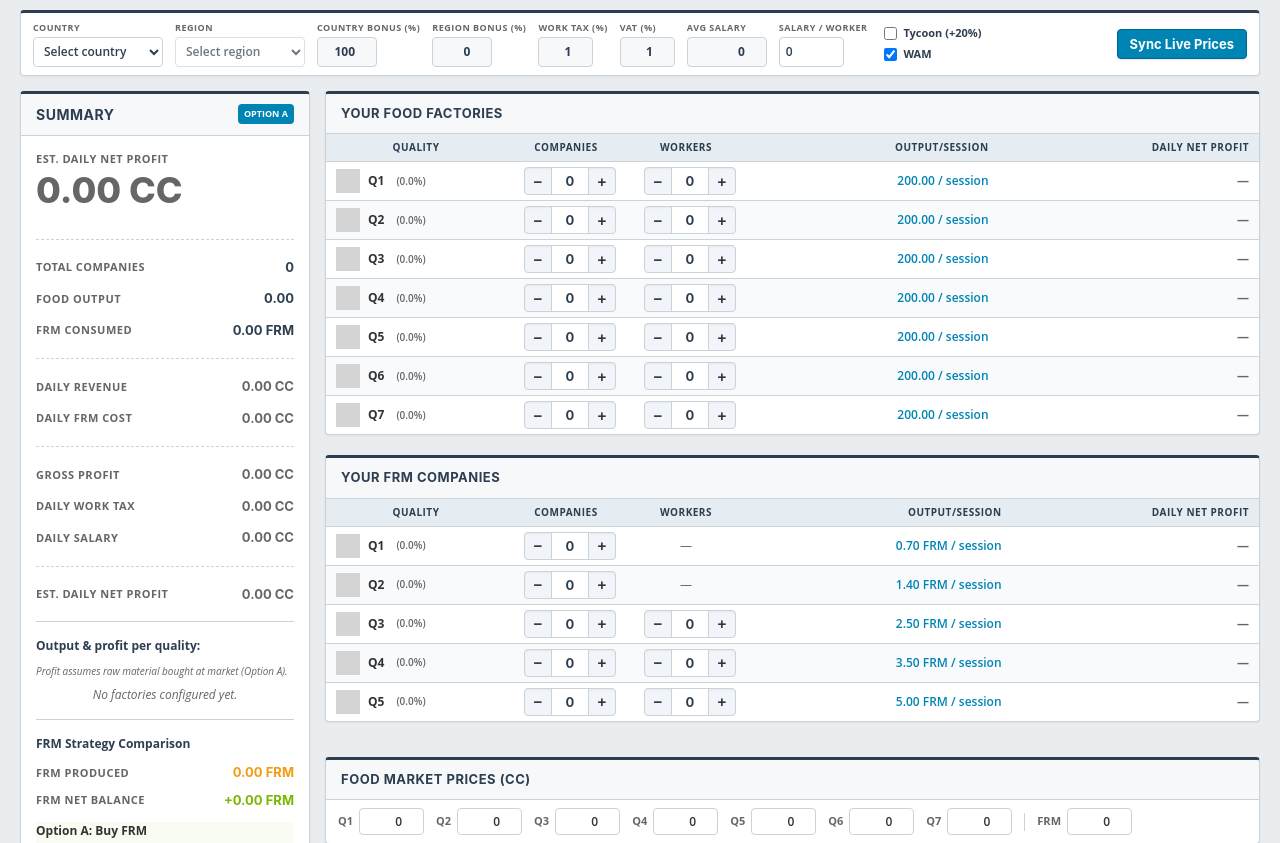
Test: IndustryView › increments a Q1 factory and reflects it in the company KPI
Click the button named "Companies plus" at {"x": 602, "y": 181}, box [589,168,615,194]
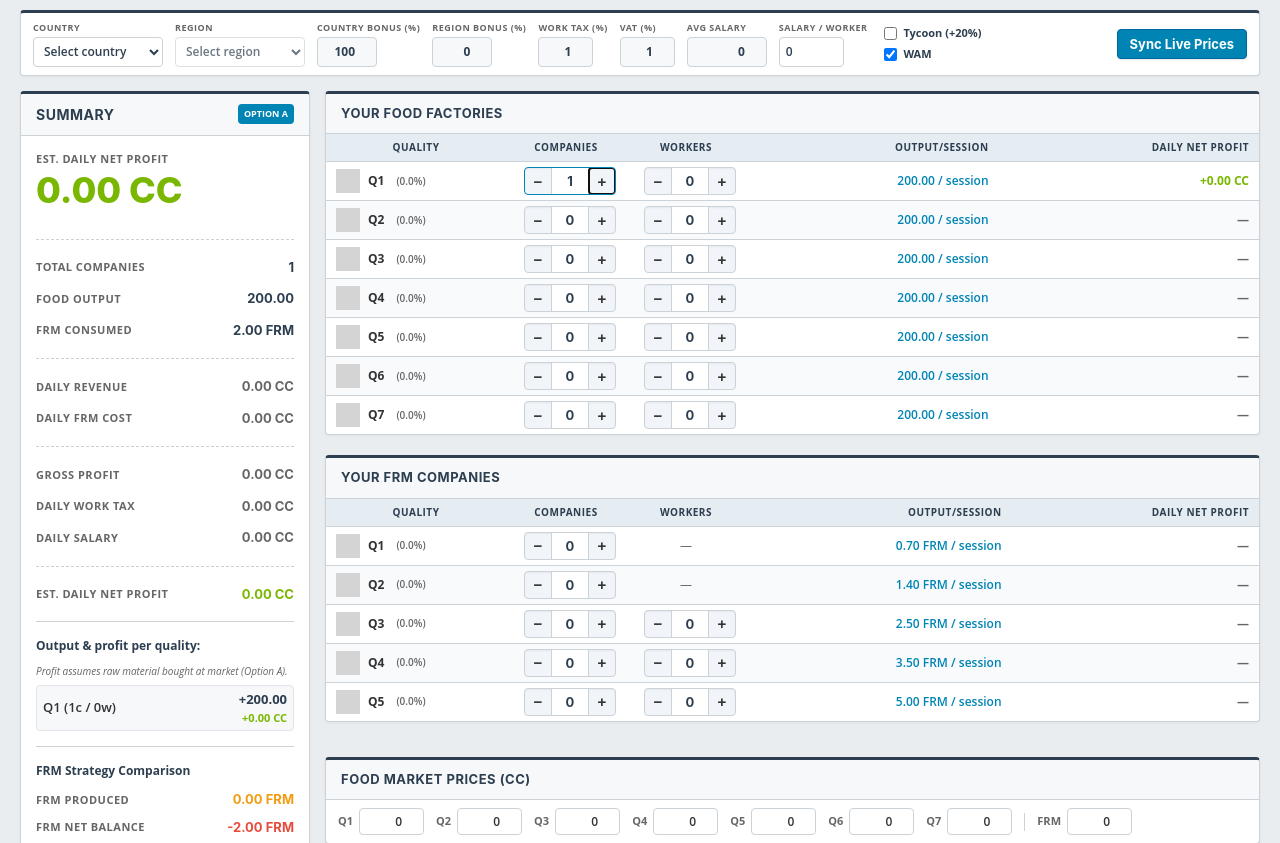
Expected: the text with test id "total-factories-count" reads "1", [288,259,294,275]
